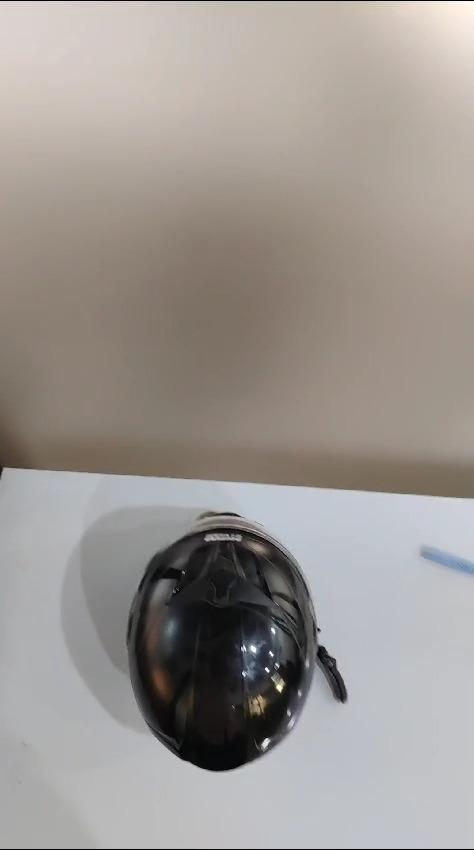Helmet: (116, 510, 353, 798)
